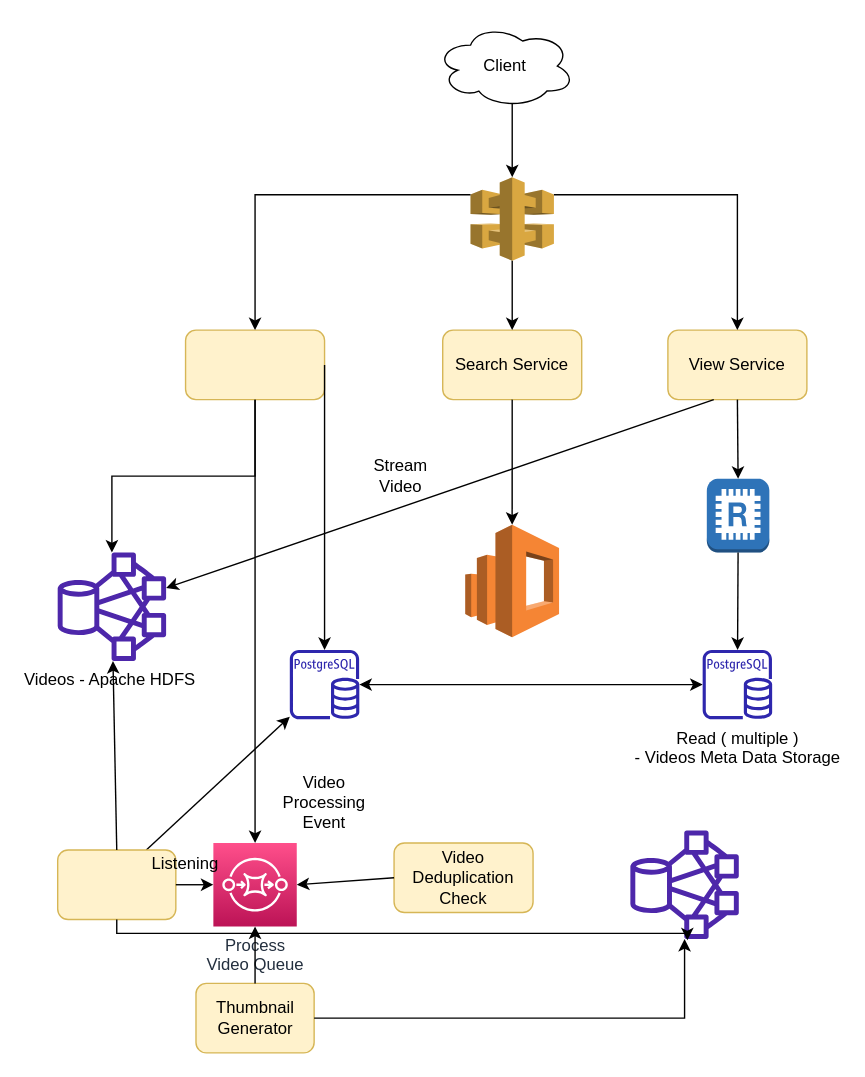
This 865x1077 diagram has some shape labels left out. The shapes that lost their labels are listed below. From the top down, each one's box as (x1, y1, x2, y2) in pixels, then its label:
(184, 329, 325, 400): Upload Service
(289, 649, 359, 719): Videos Meta Data Storage
(56, 849, 176, 919): Encoder into multiple formats
(630, 830, 738, 938): Thumbnails - Apache HDFS
